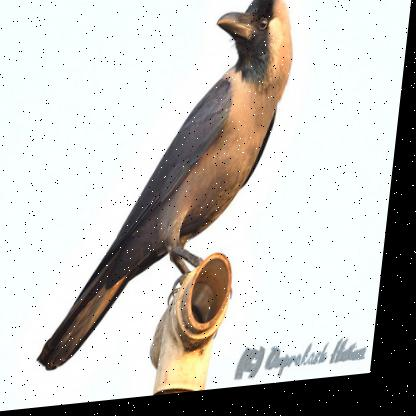Burung: (44, 0, 300, 374)
